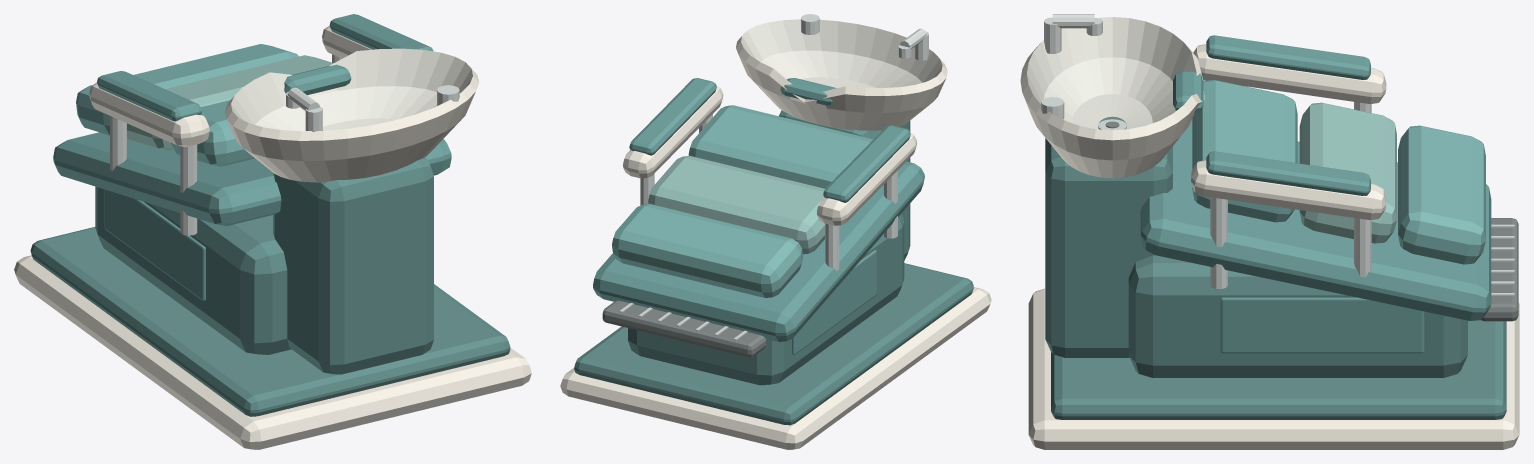
Rendered from wash-station.fbx.
3 views of the same model, side by side, from view 1: azimuth 30°, elevation 25°; view 2: azimuth 150°, elevation 25°; view 3: azimuth 270°, elevation 25° (orthographic). The views are drawn at different scales.
Visible parts, largest first — view 1: wash-station; view 2: wash-station; view 3: wash-station.
Part boxes in pixels (box(x1,y1,x2,y2)): wash-station: box(14, 14, 531, 449); wash-station: box(560, 14, 991, 449); wash-station: box(1020, 14, 1519, 449).
Bounding box in the file's own units: 212 × 230 × 309.
